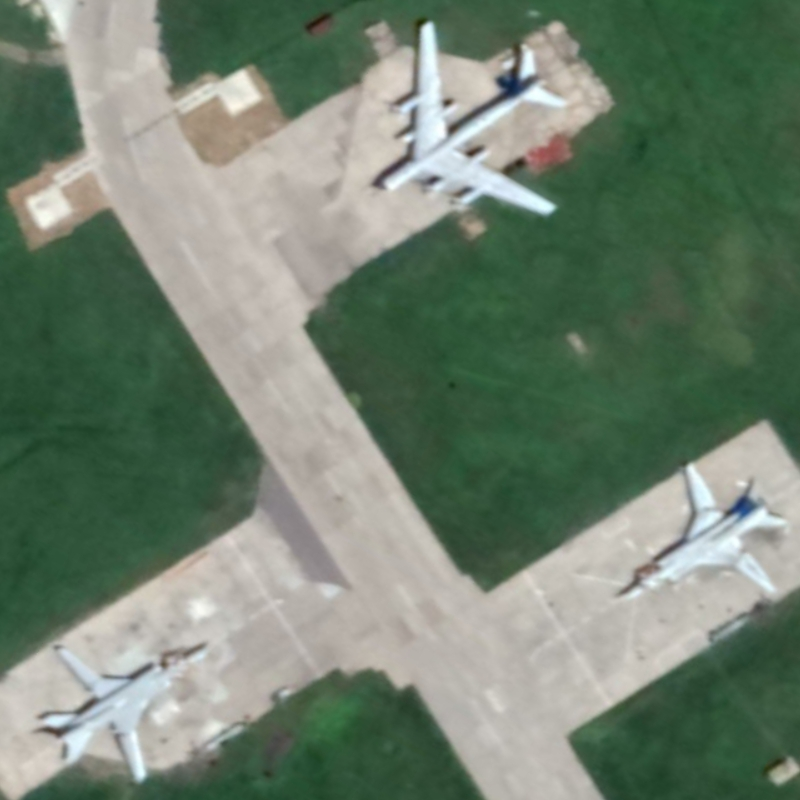A12: (618, 459, 789, 604), (39, 643, 209, 786)
A17: (372, 17, 570, 220)
